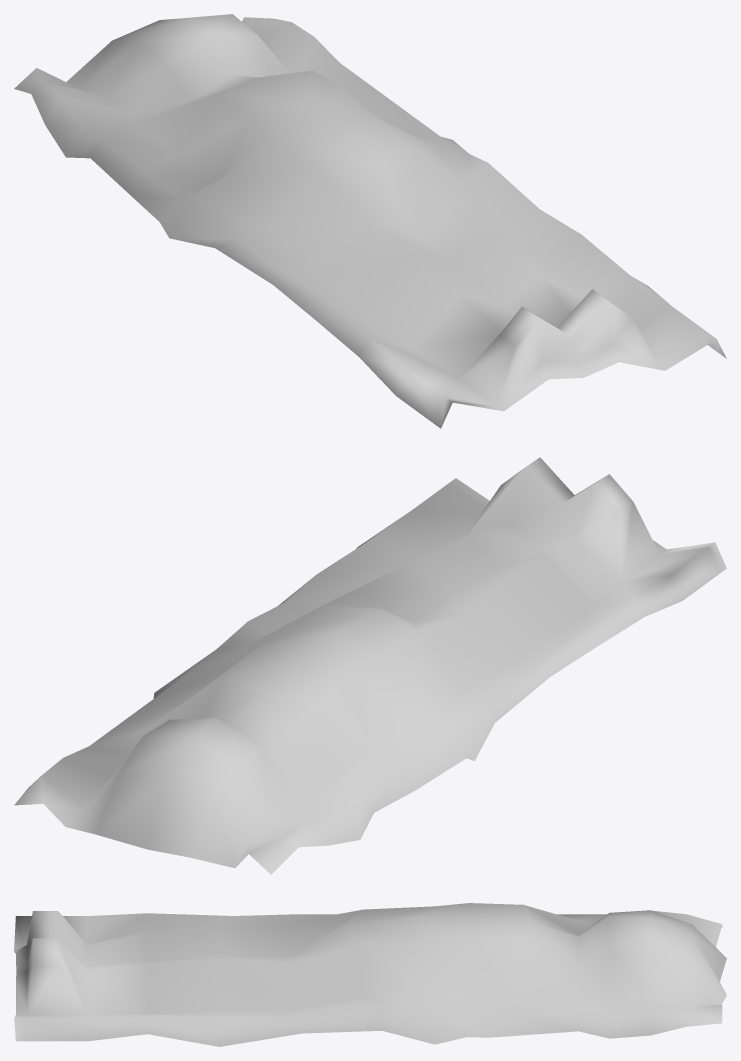
The model's file is dead_body.fbx.
The picture shows the model from 3 angles, top to bottom: view 1: azimuth 30°, elevation 25°; view 2: azimuth 150°, elevation 25°; view 3: azimuth 270°, elevation 25°; orthographic projection. The views are drawn at different scales.
Parts seen in each view (by area): view 1: defaultMaterial.001; view 2: defaultMaterial.001; view 3: defaultMaterial.001.
Boxes of the visible parts, x1,y1,x2,y2 form: defaultMaterial.001: (14,14,726,428); defaultMaterial.001: (14,457,726,874); defaultMaterial.001: (14,903,726,1046).
Size of the model in its own units: 74.39 by 21.78 by 190.
